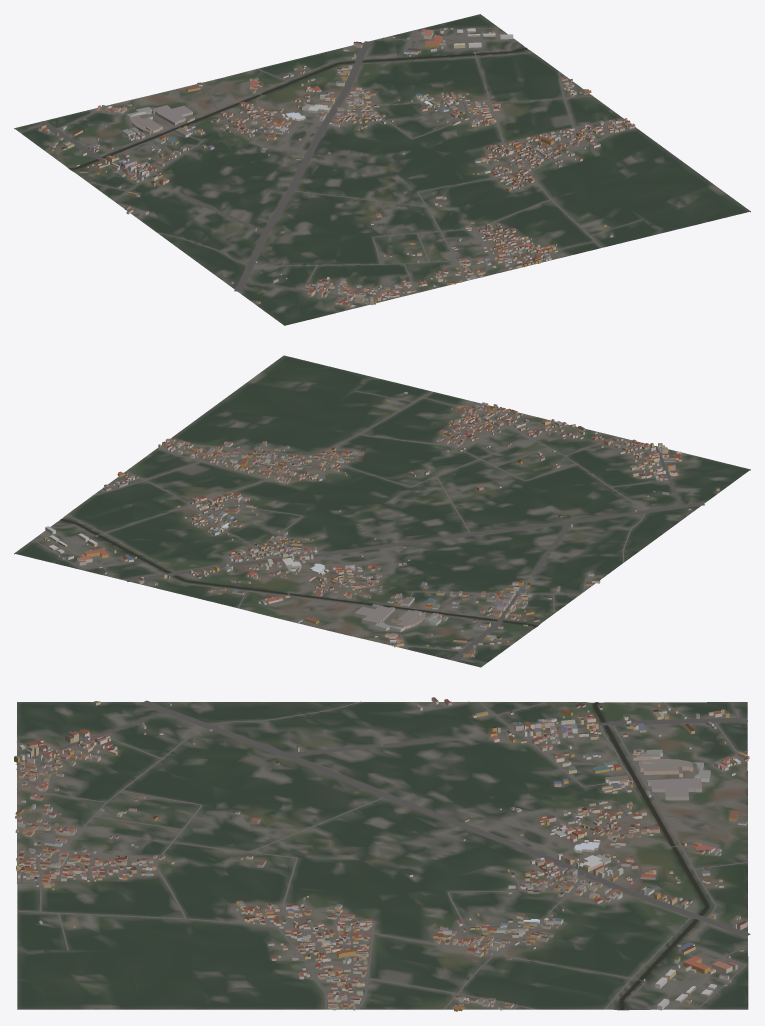
The picture shows the model from 3 angles, top to bottom: view 1: azimuth 30°, elevation 25°; view 2: azimuth 150°, elevation 25°; view 3: azimuth 270°, elevation 25°; orthographic projection. The views are drawn at different scales.
Parts seen in each view (by area): view 1: ground, buildings, roads, water; view 2: ground, buildings, roads, water; view 3: ground, buildings, roads, water.
Part boxes in pixels (x1,y1,x2,y2): ground: (14,14,750,325); buildings: (39,27,635,308); roads: (19,28,642,310); water: (69,47,527,169); ground: (14,355,750,667); buildings: (43,392,719,657); roads: (36,391,704,663); water: (60,519,537,627); ground: (17,702,748,1010); buildings: (14,697,749,1011); roads: (16,700,750,1009); water: (592,702,709,1009).
Bounding box in the file's own units: 1416 × 21.4 × 1414.
